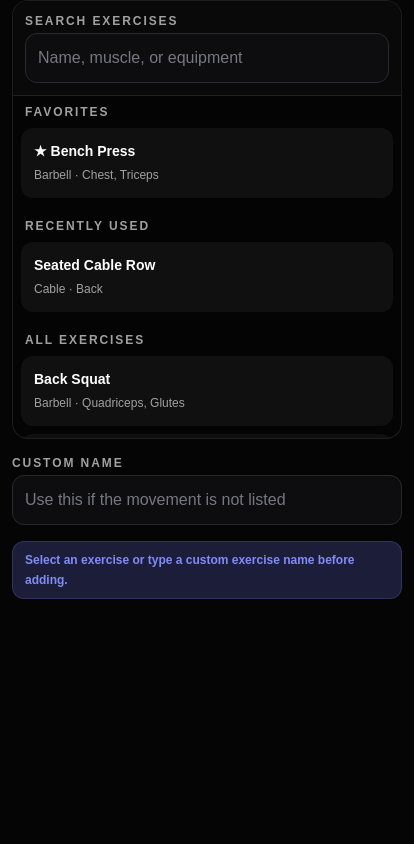
Test: ExerciseSelect › filters instantly without case or surrounding-whitespace sensitivity
In the search field labelled "Search exercises": [207, 58] box left=25, top=33, right=389, bottom=83, type "  bAcK sQuAt  "
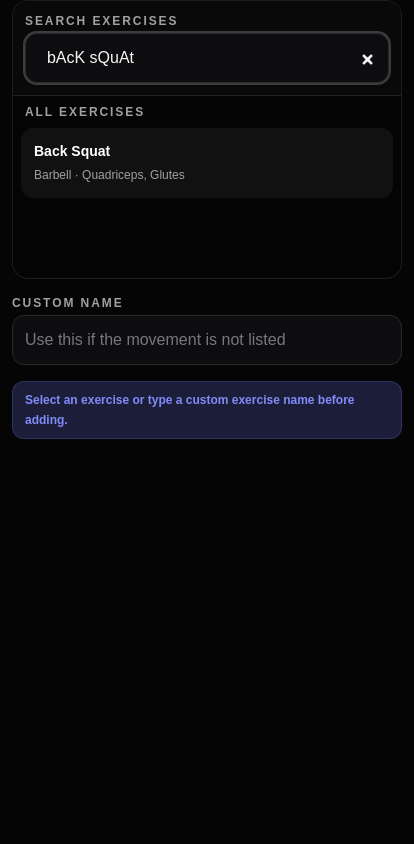
Result: the button "Bench Press" is gone
Result: the heading "Favorites" is gone
Result: the heading "Recently used" is gone
